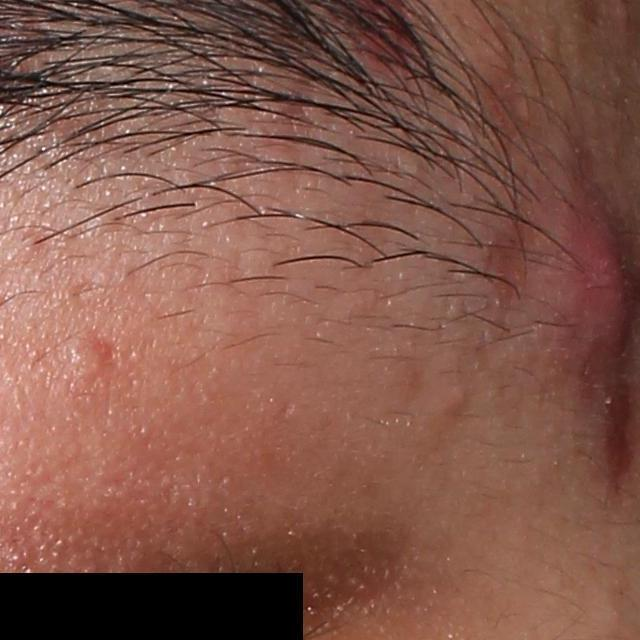nodule: (528, 157, 638, 431)
